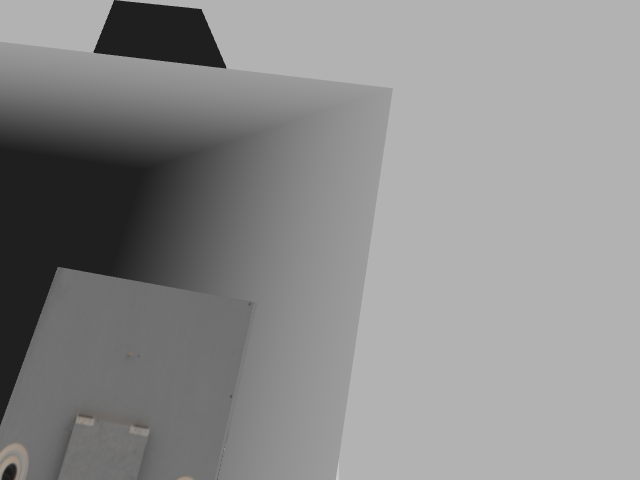facade: (0, 403, 206, 478)
